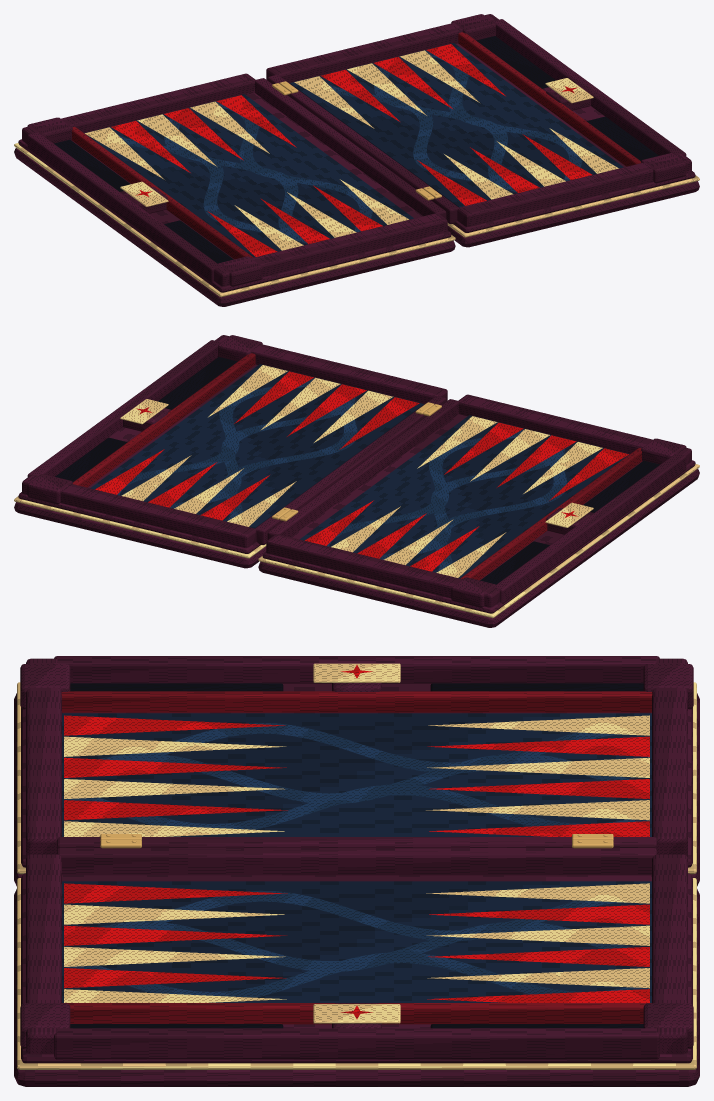
File: Board.glb
3 renders of one model, top to bottom at view 1: azimuth 30°, elevation 25°; view 2: azimuth 150°, elevation 25°; view 3: azimuth 270°, elevation 25°, orthographic. The views are drawn at different scales.
Parts seen in each view (by area): view 1: Board; view 2: Board; view 3: Board.
Boxes of the visible parts, left/top/right/bottom form: Board: left=14, top=14, right=699, bottom=306; Board: left=14, top=335, right=699, bottom=627; Board: left=14, top=656, right=699, bottom=1086.
Size of the model in its own units: 0.64 by 0.0465 by 0.48.
Materials: 8 (7 with a texture image).
